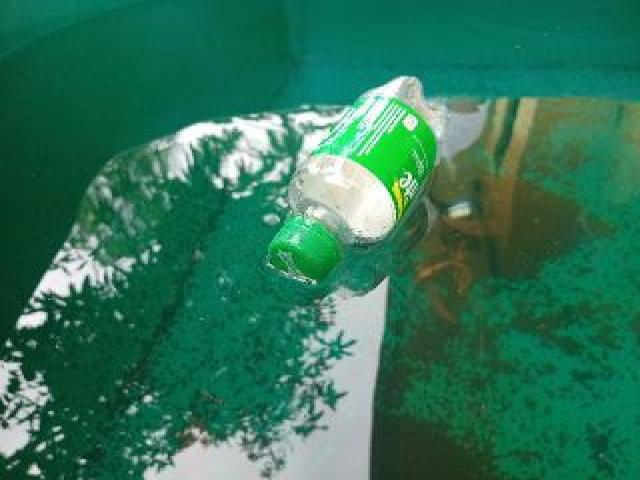Bottle: (258, 70, 453, 287)
